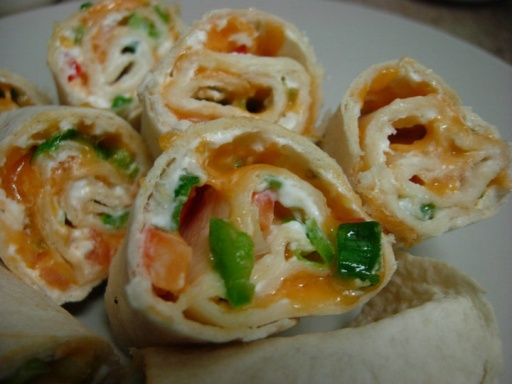background: (0, 0, 410, 230)
